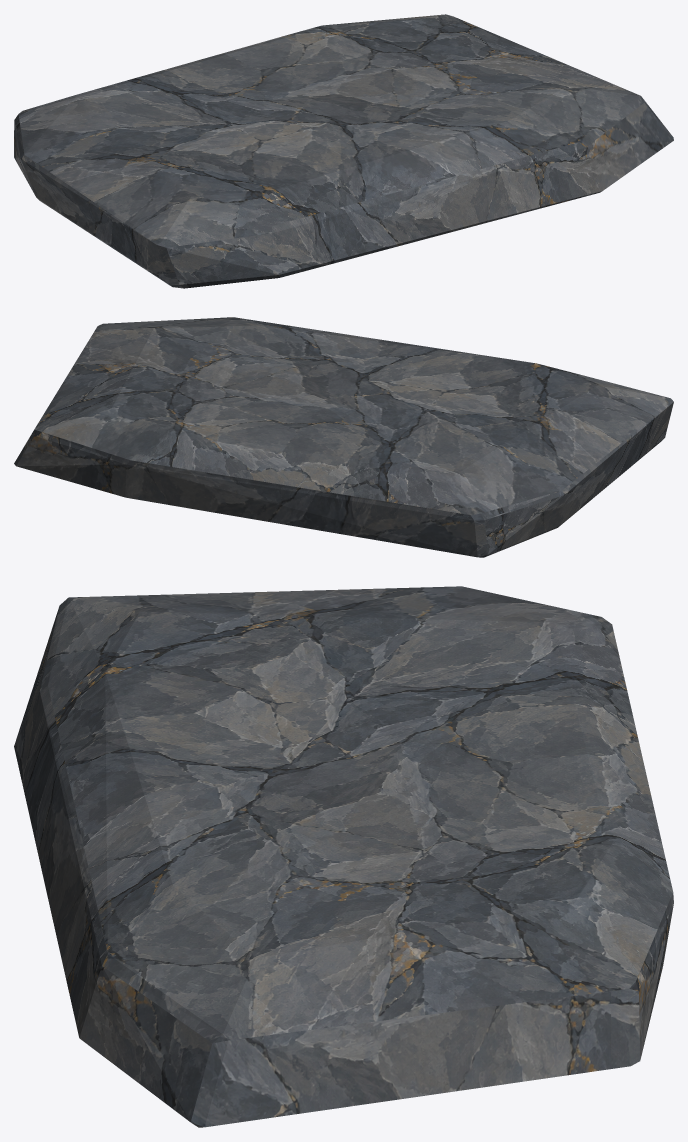
Rendered from Cave_R03_FlatSlab.fbx.
3 renders of one model, top to bottom at view 1: azimuth 30°, elevation 25°; view 2: azimuth 150°, elevation 25°; view 3: azimuth 270°, elevation 25°, orthographic. The views are drawn at different scales.
Parts seen in each view (by area): view 1: Cave_R03_FlatSlab_LOD0; view 2: Cave_R03_FlatSlab_LOD0; view 3: Cave_R03_FlatSlab_LOD0.
Part boxes in pixels (left/top/right/bottom): Cave_R03_FlatSlab_LOD0: left=14, top=14, right=673, bottom=288; Cave_R03_FlatSlab_LOD0: left=14, top=317, right=673, bottom=557; Cave_R03_FlatSlab_LOD0: left=14, top=586, right=673, bottom=1127.
Size of what is drawn, in the model's own units: 3.07 by 0.4288 by 1.93.
Materials: 1 (1 with a texture image).
